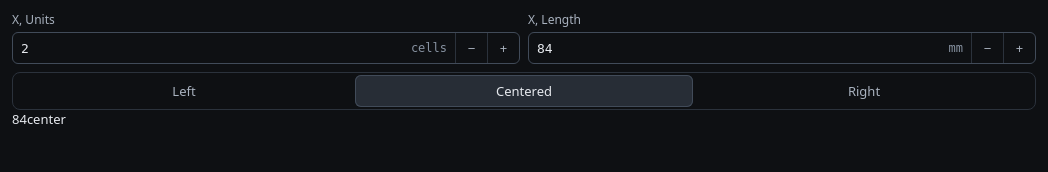
SizeInput › 100 мм → ≈ 2.38 ячейки и остаток 16 мм
The image size is (1048, 172).
Step 1. Replace the text in the field labelled "X, Length" with "100" → (739, 48), box 529,33 -> 948,63
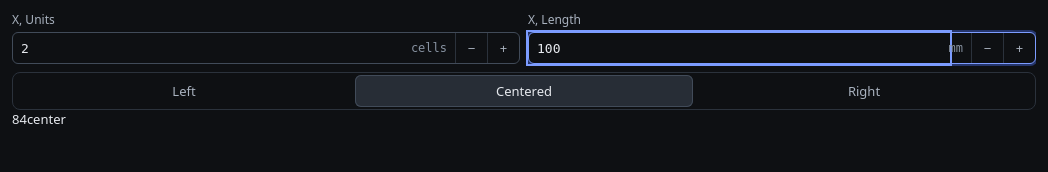
Step 2. Press Tab
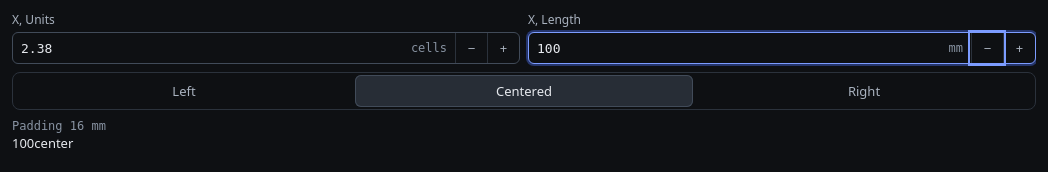
Expected: the field labelled "X, Units" holds "2.38", 13,33 -> 411,63
Expected: the text "Padding 16 mm" is shown, 12,119 -> 106,133
